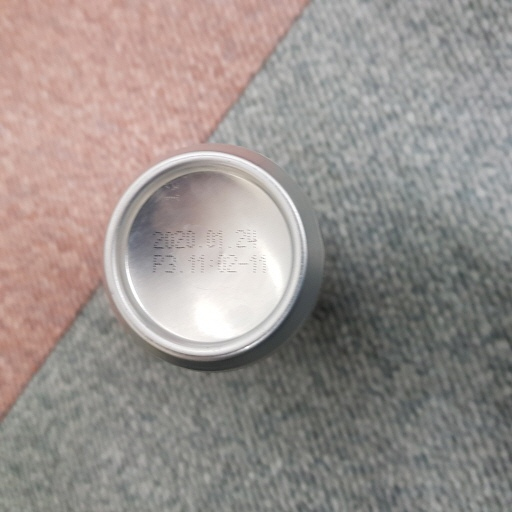Metal_0: (100, 145, 328, 370)
